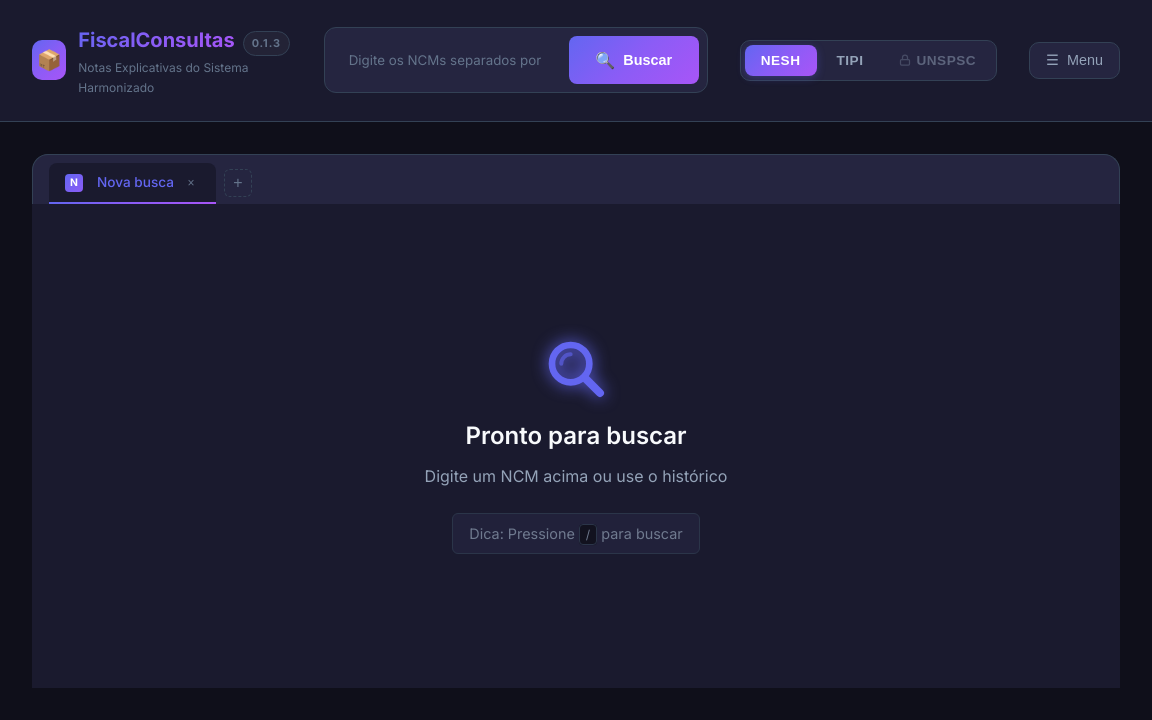
Test: App Analysis - Context Switch › Scenario 1: Clicking TIPI on an EMPTY tab should update the current tab (no new tab)
# Switch to TIPI
Click the button "TIPI": click(850, 60) [820,45,879,76]
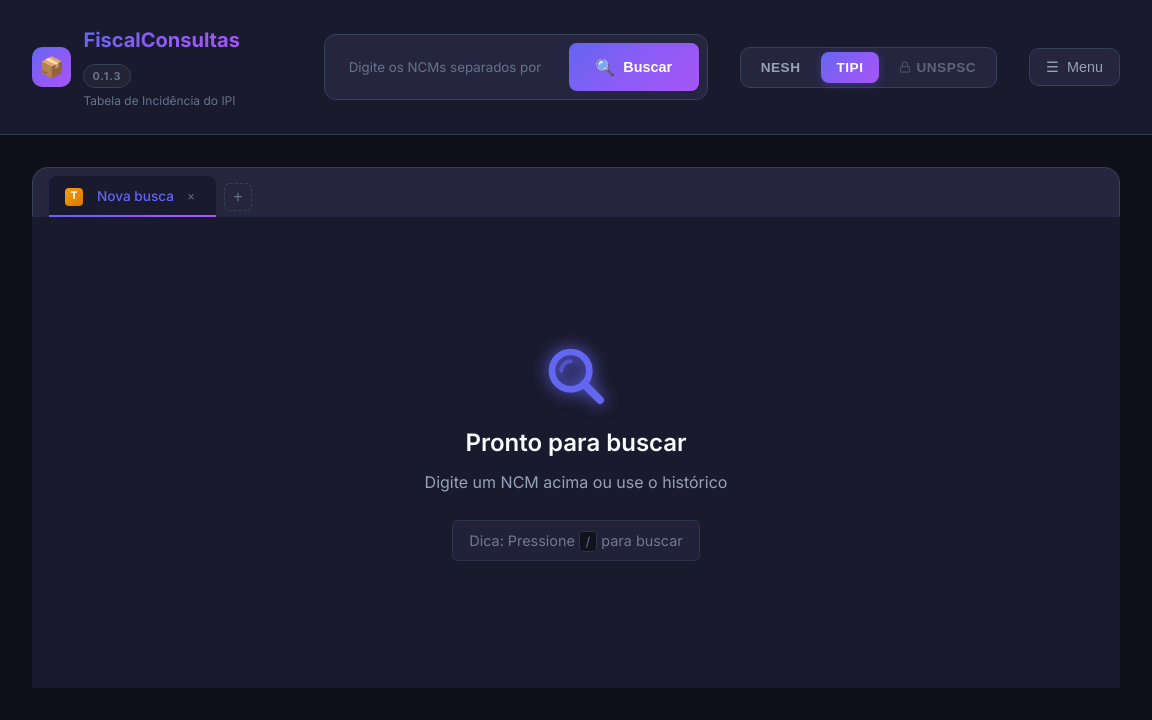
Expected: the text "Tabela de Incidência do IPI" is shown, [83,93,236,108]
